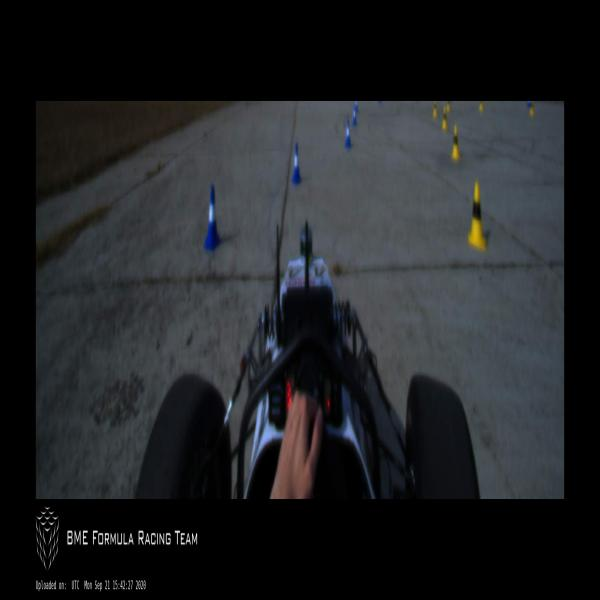blue_cone: (203, 184, 221, 253), (292, 142, 302, 184), (345, 120, 351, 148), (352, 107, 356, 127), (354, 101, 358, 112)
yellow_cone: (468, 180, 487, 251), (452, 126, 460, 160), (442, 108, 448, 131), (529, 104, 536, 119), (432, 101, 438, 118), (478, 101, 484, 113), (447, 102, 450, 112)
